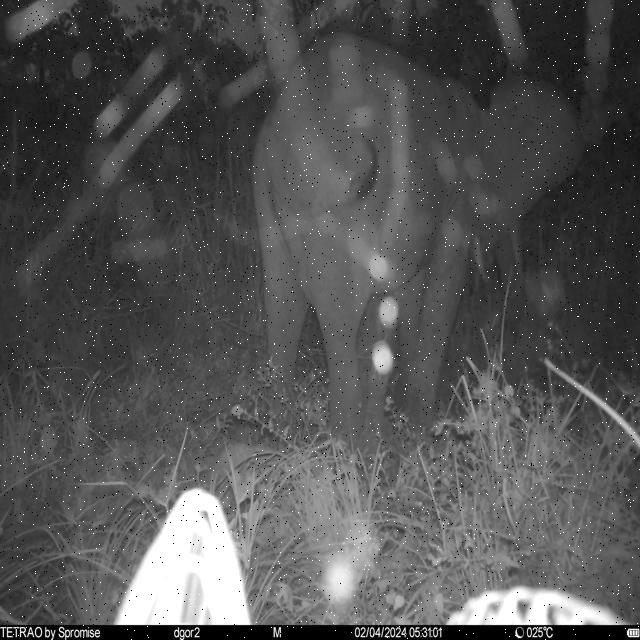ear: (484, 72, 584, 222)
elephant: (251, 31, 584, 447)
tusk: (472, 233, 489, 286), (510, 227, 524, 275)
